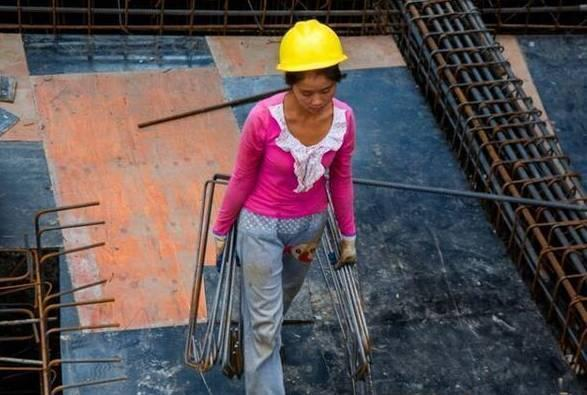helmet: (276, 19, 350, 76)
